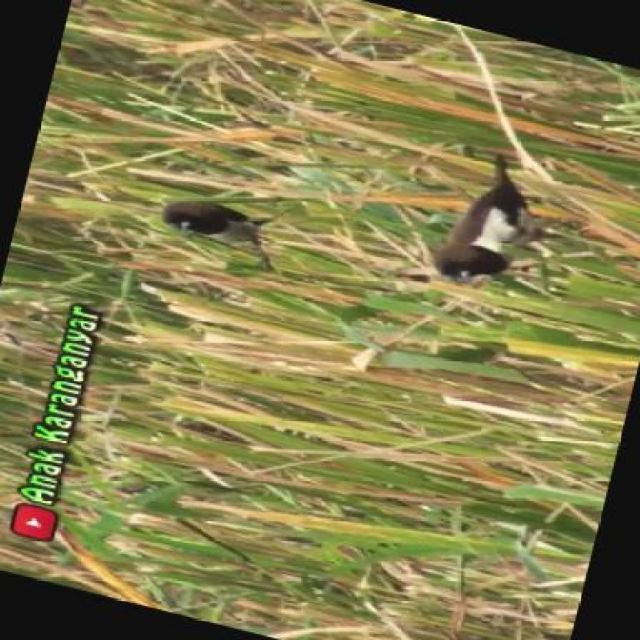Bird: (426, 149, 545, 287), (156, 192, 264, 263)
